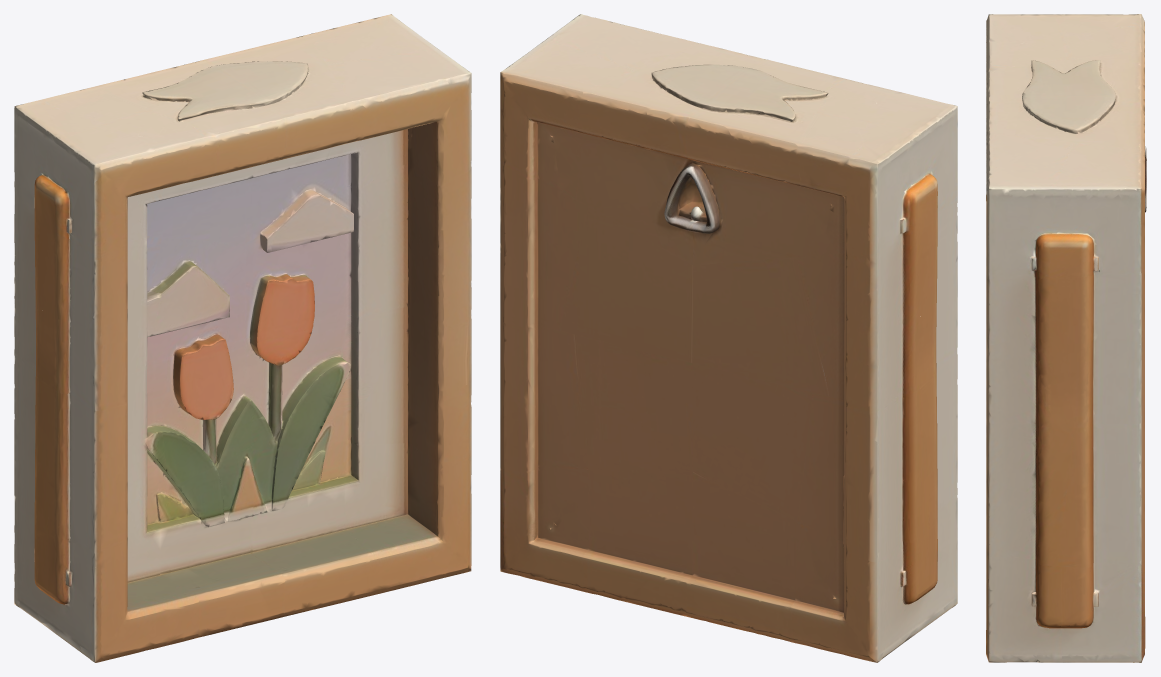
Rendered from frame2-f182e88706df.glb.
The picture shows the model from 3 angles, left to right: view 1: azimuth 30°, elevation 25°; view 2: azimuth 150°, elevation 25°; view 3: azimuth 270°, elevation 25°; orthographic projection. The views are drawn at different scales.
Parts seen in each view (by area): view 1: tripo_node_0d2da519-fefe-447c-8f22-a24fd52a04cb; view 2: tripo_node_0d2da519-fefe-447c-8f22-a24fd52a04cb; view 3: tripo_node_0d2da519-fefe-447c-8f22-a24fd52a04cb.
Part boxes in pixels (<box>): tripo_node_0d2da519-fefe-447c-8f22-a24fd52a04cb: <box>14,14,471,662</box>; tripo_node_0d2da519-fefe-447c-8f22-a24fd52a04cb: <box>500,14,957,662</box>; tripo_node_0d2da519-fefe-447c-8f22-a24fd52a04cb: <box>986,14,1146,662</box>.
Size of the model in its own units: 0.8196 by 0.9999 by 0.3039.
1 material, 1 textured.
